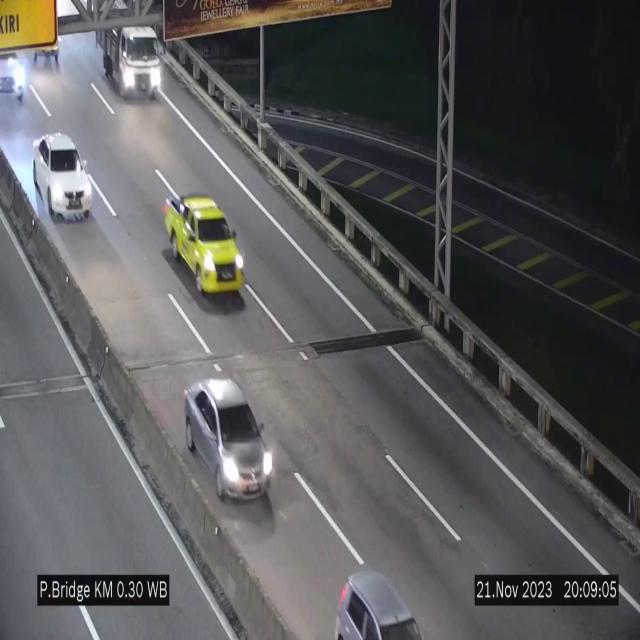Car: (184, 379, 274, 498), (163, 195, 245, 297), (33, 133, 91, 220)
